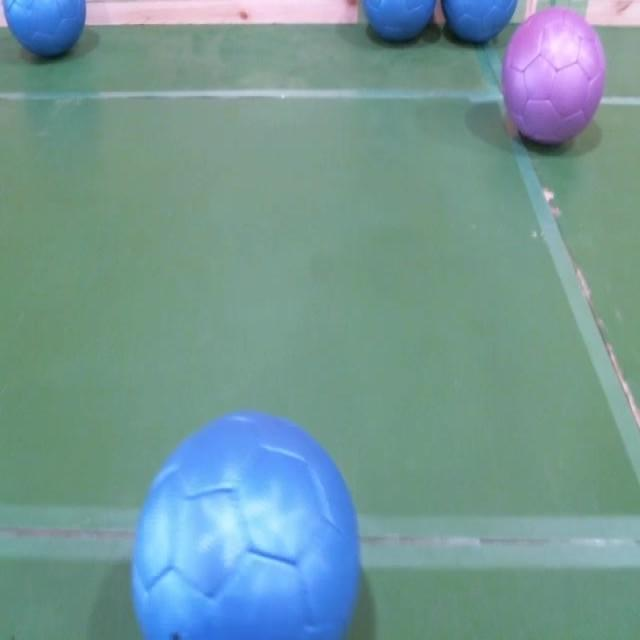blue_ball: (134, 407, 363, 640), (0, 0, 88, 60), (364, 0, 437, 47), (443, 0, 518, 43)
purple_ball: (506, 18, 606, 145)
